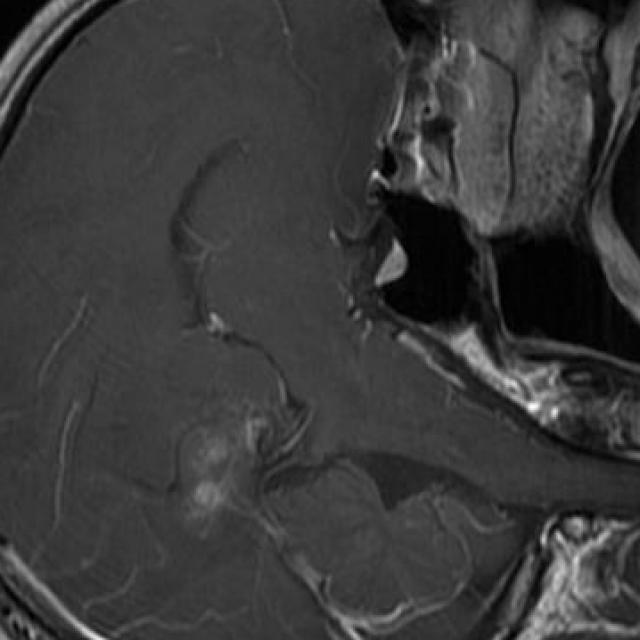glioma: (180, 410, 267, 540)
